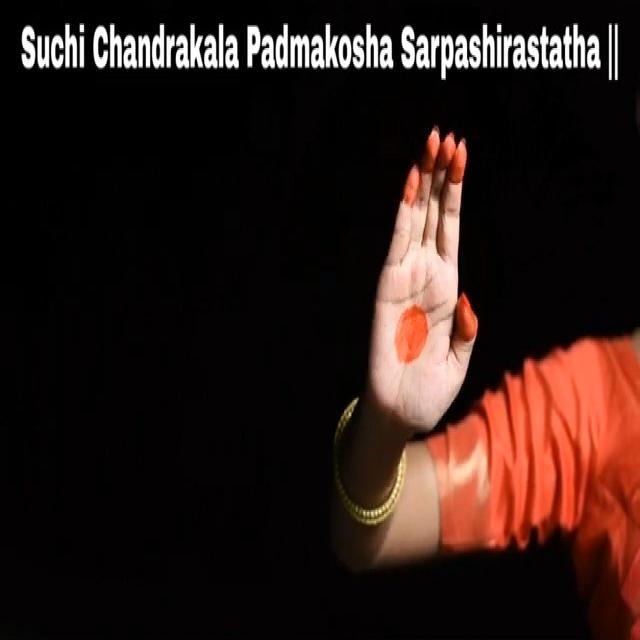Sarpashirsha: (362, 112, 499, 440)
bangle: (323, 412, 410, 538)
text: (20, 18, 623, 86)
